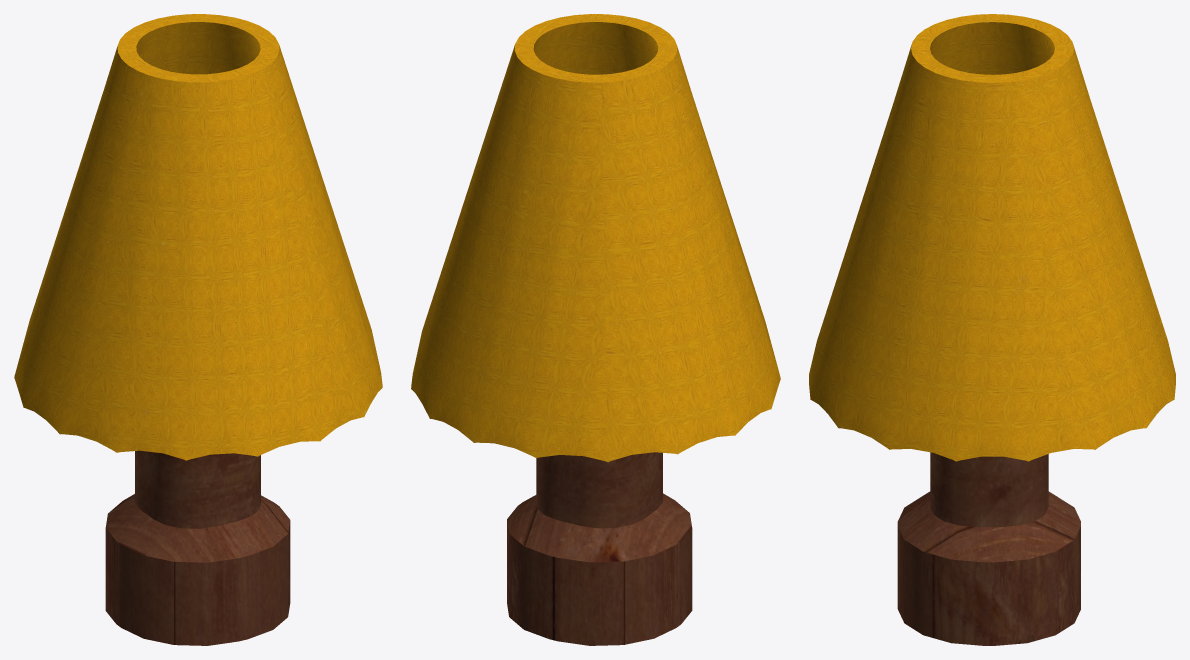
Rendered from Lampu tidor.fbx.
3 views of the same model, side by side, from view 1: azimuth 30°, elevation 25°; view 2: azimuth 150°, elevation 25°; view 3: azimuth 270°, elevation 25° (orthographic).
Parts seen in each view (by area): view 1: Lantern; view 2: Lantern; view 3: Lantern.
Part boxes in pixels (x1,y1,x2,y2): Lantern: (14,14,382,645); Lantern: (411,14,780,645); Lantern: (809,14,1175,645).
Bounding box in the file's own units: 64.94 × 109 × 64.94.
